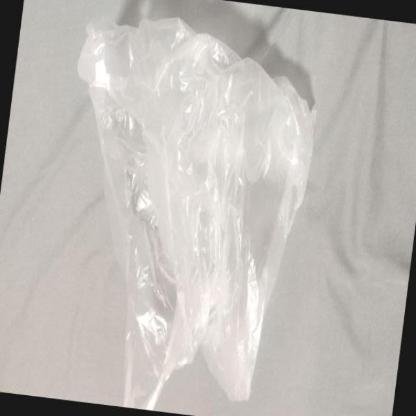Plastic Bag: (77, 15, 318, 410)
